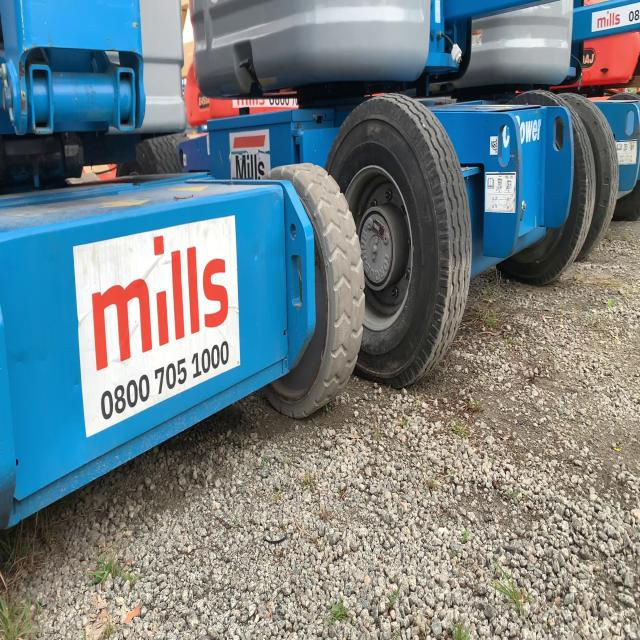Adesivos: (71, 208, 244, 443)
